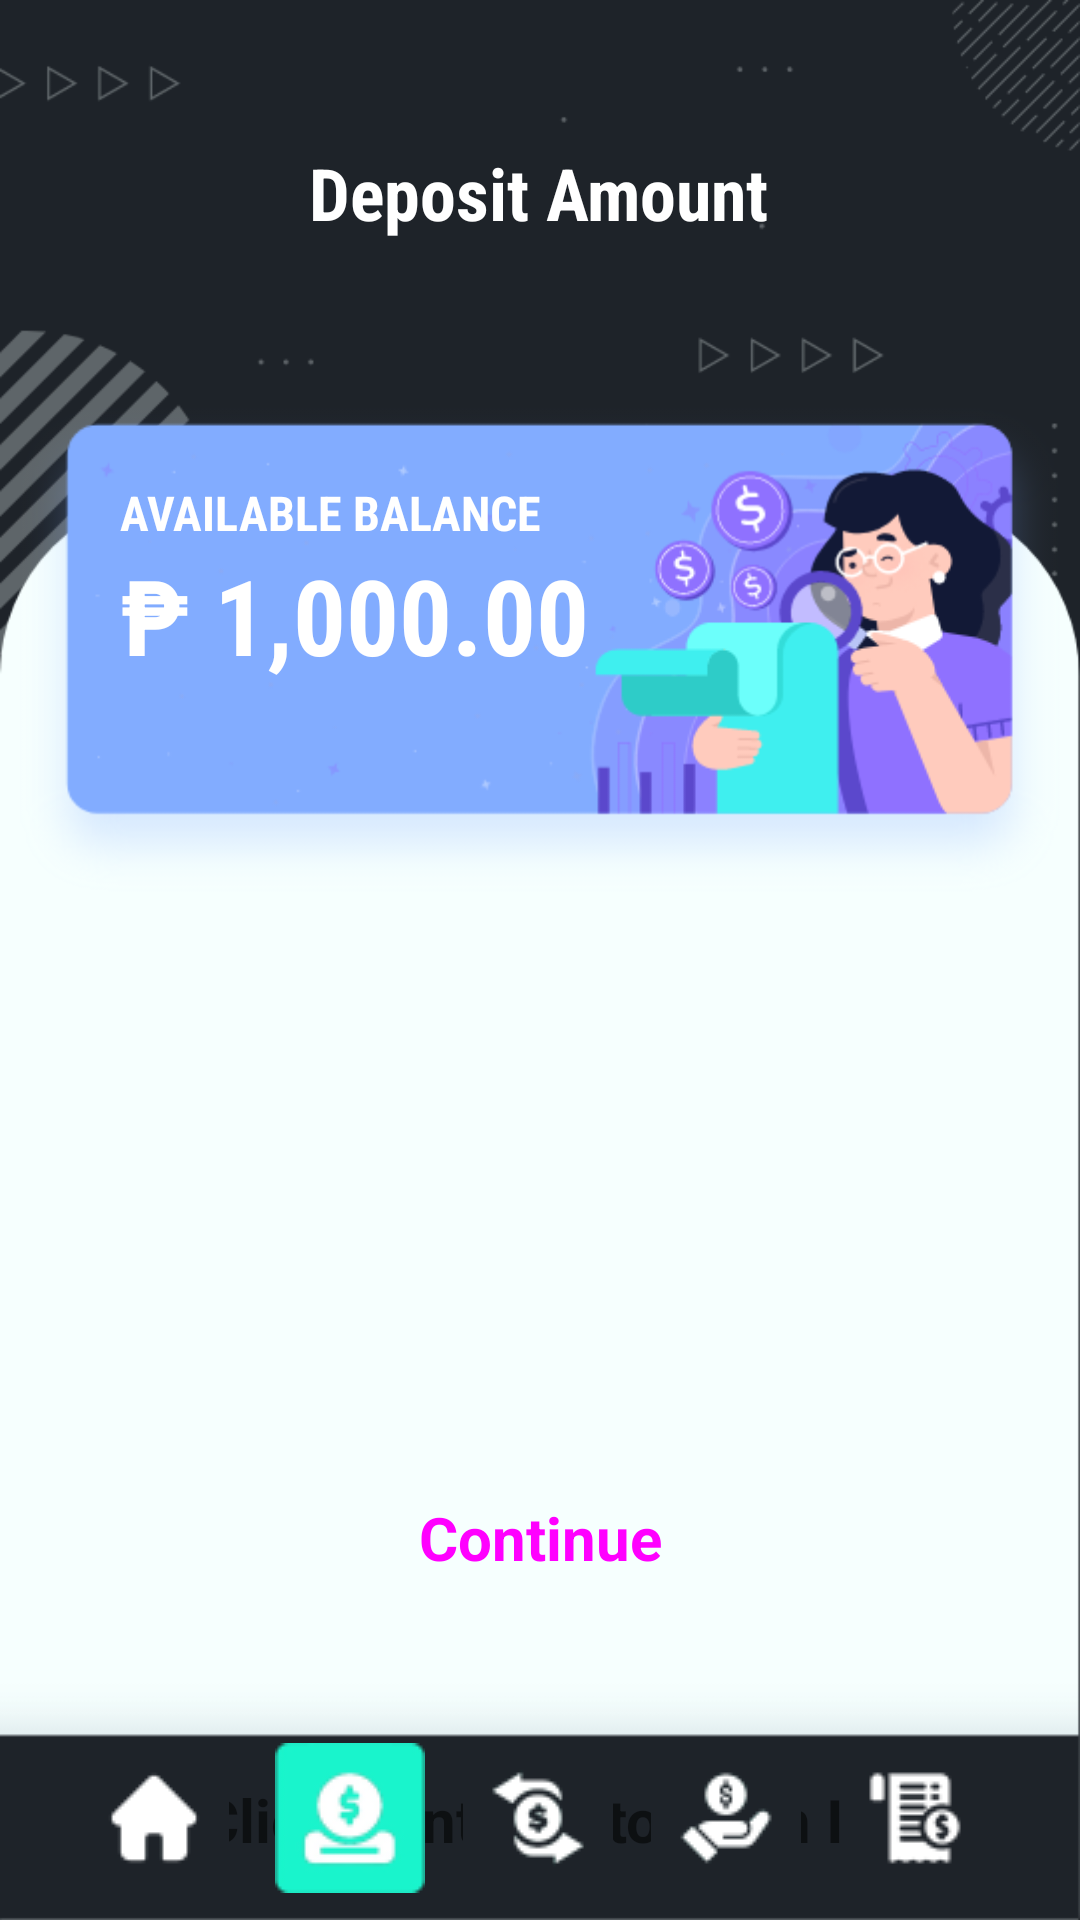

Icons on this 1080px x 1920px Android screen, each with the point to tap as (x,y):
deposit: (350,1818)
home: (154,1819)
transactions: (915,1818)
transfer: (538,1818)
